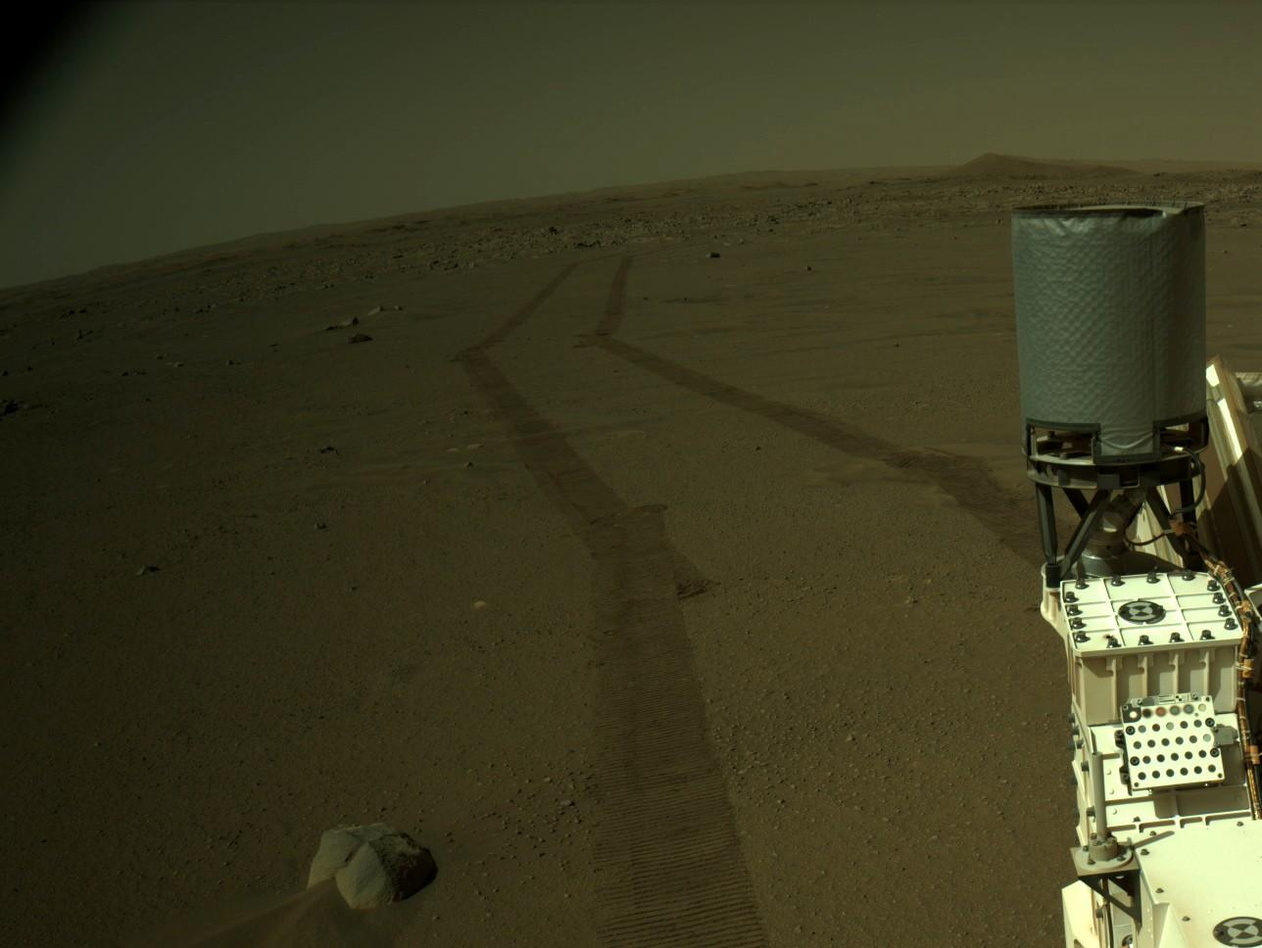bedrock: (11, 173, 1219, 353)
soil: (5, 203, 1258, 947)
